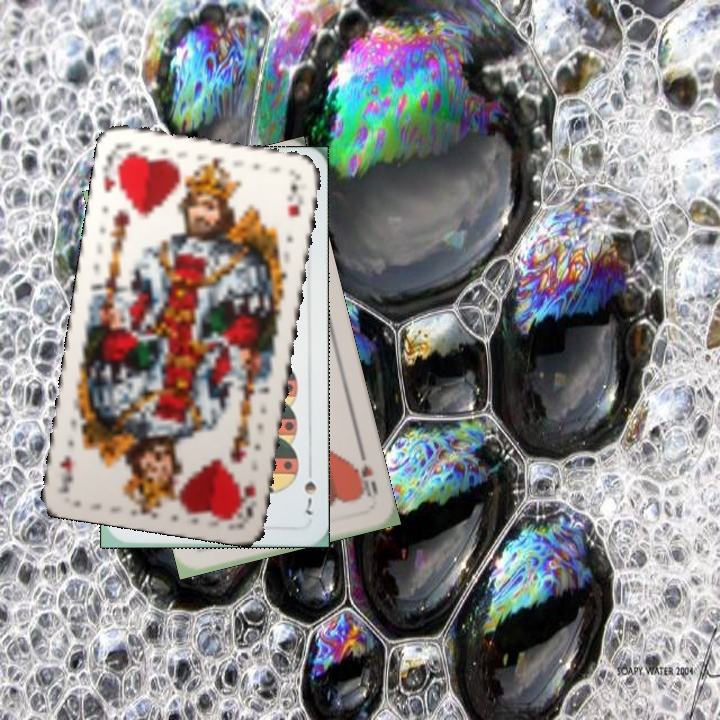HK: (98, 146, 129, 195), (234, 480, 259, 521)
HO: (349, 446, 381, 501)
S7: (300, 478, 319, 518)
